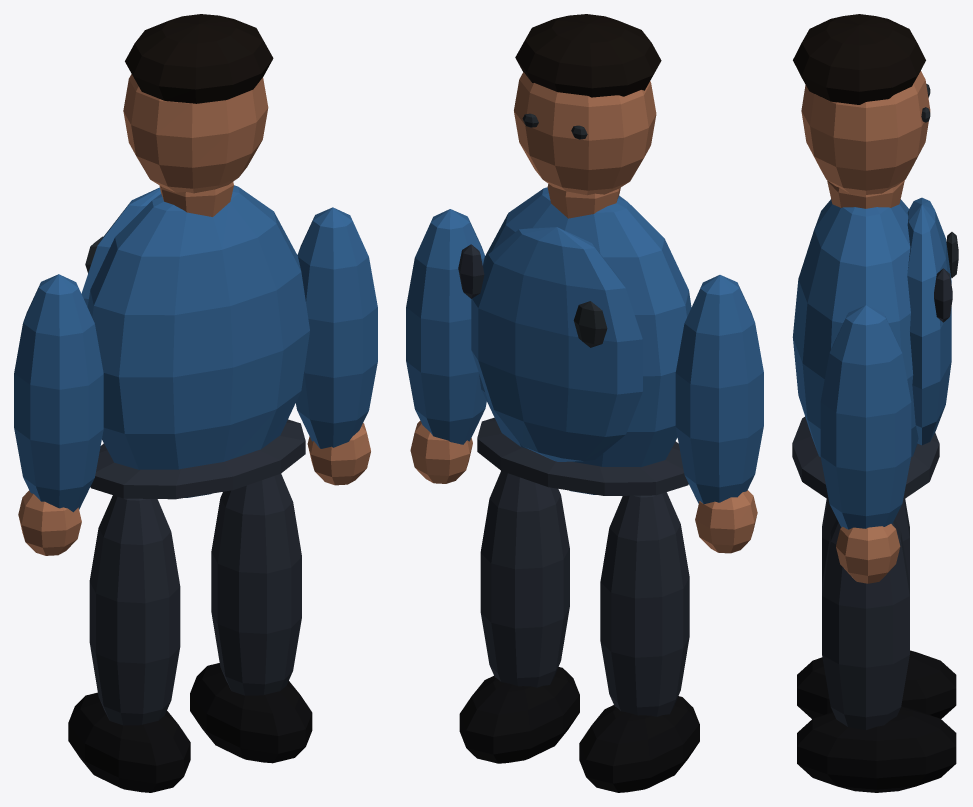
Rendered from civilian.obj.
3 renders of one model, left to right at view 1: azimuth 30°, elevation 25°; view 2: azimuth 150°, elevation 25°; view 3: azimuth 270°, elevation 25°, orthographic. The views are drawn at different scales.
Visible parts, largest first — view 1: torso, left_leg, right_leg, left_arm, right_arm, head, hair, right_boot, left_boot, belt, left_hand, right_hand (+2 smaller); view 2: vest_front, left_leg, torso, right_leg, left_arm, right_arm, head, hair, right_boot, left_boot, belt, left_hand (+4 smaller); view 3: right_arm, torso, right_leg, head, right_boot, hair, vest_front, left_boot, right_hand, belt, neck, left_leg (+2 smaller).
Part boxes in pixels (x1,y1,x2,y2): torso: (87, 185, 309, 497); left_leg: (89, 495, 180, 725); right_leg: (211, 473, 301, 695); left_arm: (14, 274, 103, 512); right_arm: (296, 207, 377, 448); head: (123, 74, 268, 193); hair: (125, 14, 273, 103); right_boot: (190, 663, 312, 763); left_boot: (68, 692, 190, 792); belt: (90, 419, 305, 499); left_hand: (18, 490, 81, 555); right_hand: (307, 423, 370, 485); vest_front: (471, 227, 642, 461); left_leg: (600, 492, 689, 716); torso: (479, 187, 691, 494); right_leg: (480, 471, 569, 687); left_arm: (675, 275, 763, 504); right_arm: (406, 209, 486, 444); head: (514, 72, 656, 195); hair: (515, 14, 661, 97); right_boot: (459, 667, 579, 763); left_boot: (579, 696, 699, 792); belt: (477, 417, 688, 495); left_hand: (695, 490, 757, 553); right_arm: (820, 305, 911, 529); torso: (792, 199, 918, 457); right_leg: (822, 519, 909, 730); head: (801, 71, 930, 194); right_boot: (797, 706, 956, 792); hair: (793, 14, 925, 104); vest_front: (907, 197, 951, 445); left_boot: (797, 650, 956, 718); right_hand: (836, 524, 900, 583); belt: (792, 416, 939, 499); neck: (827, 180, 904, 208); left_leg: (822, 499, 909, 583).
Bounding box in the file's own units: 0.9186 × 1.88 × 0.3868.
